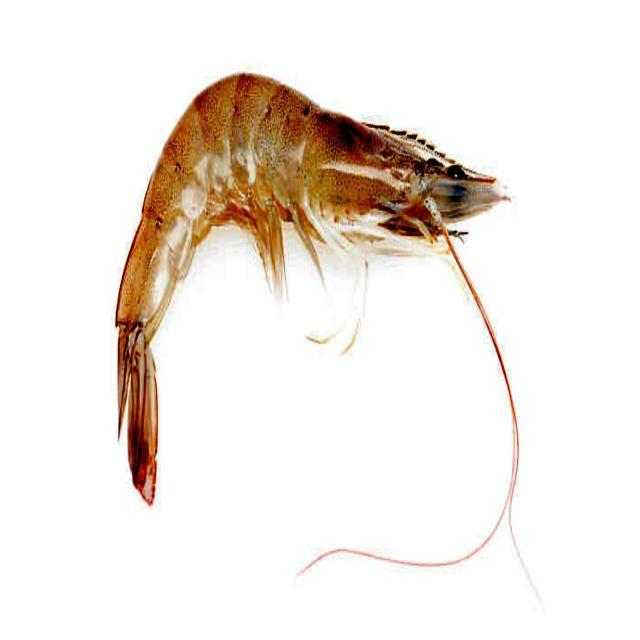shrimp: (118, 74, 502, 501)
